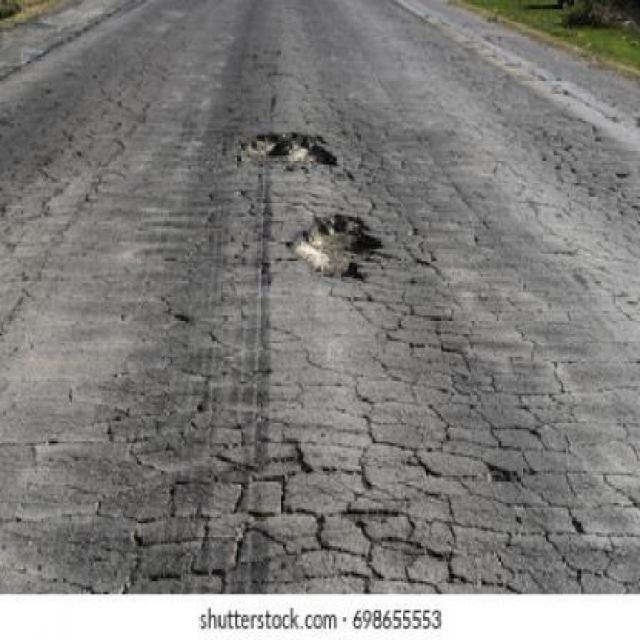Buraco: (284, 211, 388, 286), (230, 130, 343, 174)
